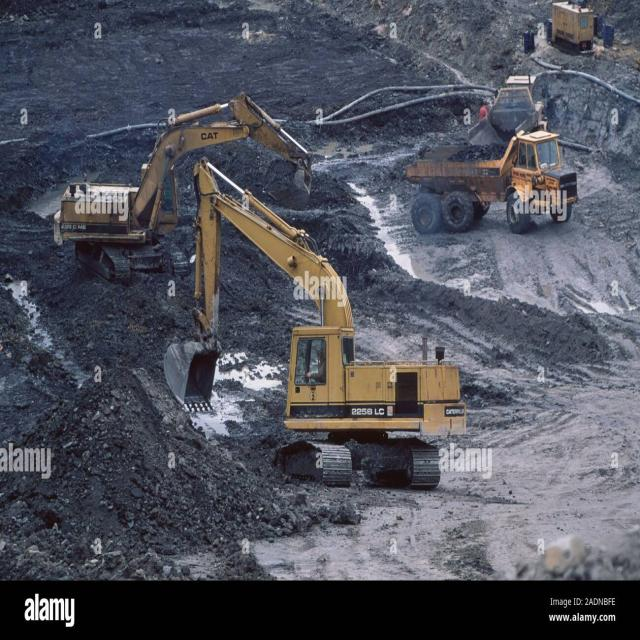dump_truck: (406, 134, 583, 236)
excavator: (171, 158, 465, 494), (32, 73, 317, 260)
